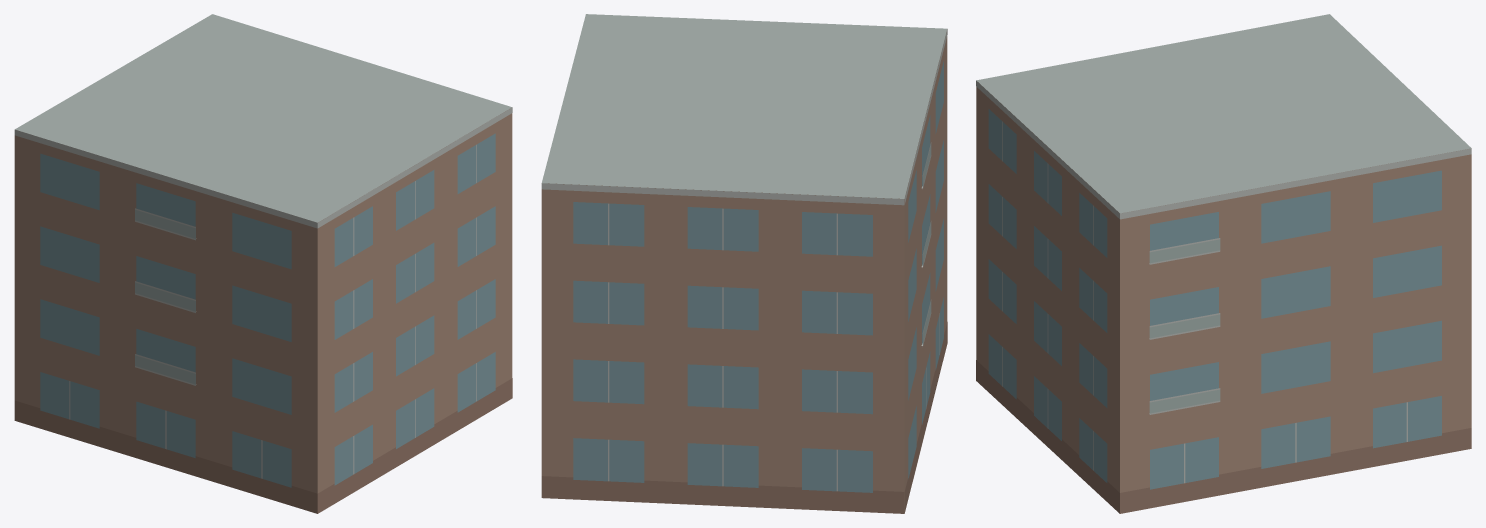
Rendered from survey-upis-32623119.glb.
The picture shows the model from 3 angles, left to right: view 1: azimuth 30°, elevation 25°; view 2: azimuth 150°, elevation 25°; view 3: azimuth 270°, elevation 25°; orthographic projection. The views are drawn at different scales.
Parts seen in each view (by area): view 1: survey-upis-32623119.tmp; view 2: survey-upis-32623119.tmp; view 3: survey-upis-32623119.tmp.
Boxes of the visible parts, x1=… form: survey-upis-32623119.tmp: x1=14, y1=14, x2=512, y2=513; survey-upis-32623119.tmp: x1=541, y1=14, x2=947, y2=513; survey-upis-32623119.tmp: x1=976, y1=14, x2=1471, y2=513.
Size of the model in its own units: 17.38 by 12.2 by 18.25.
